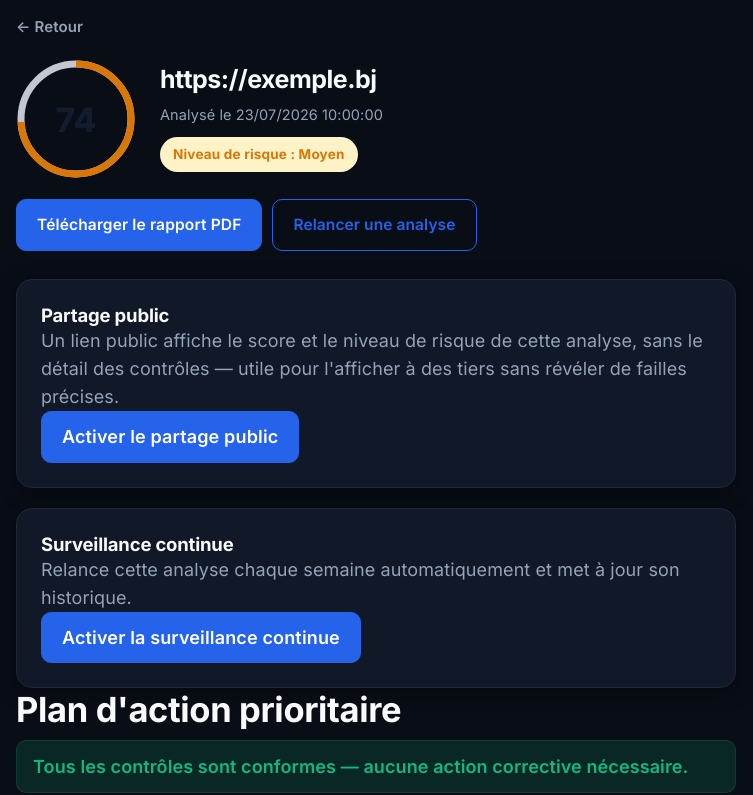
it: ResultatAnalyse — partage et surveillance › active le partage et affiche le lien copiable
Click the button "Activer le partage public". click: click(170, 437)
box: [41, 411, 299, 463]
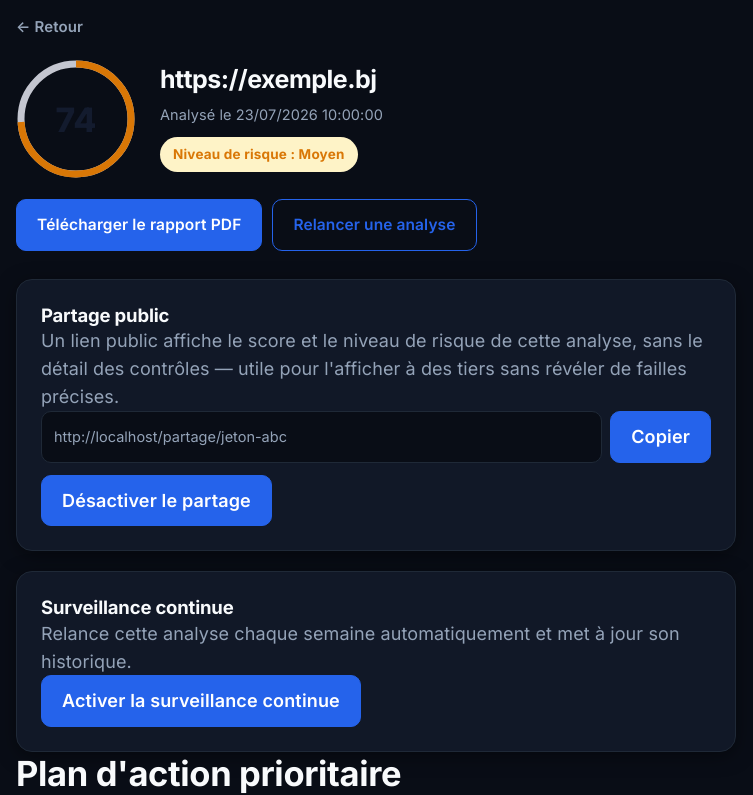
Now the button "Désactiver le partage" is shown, box [41, 475, 272, 526]
Now the field showing "/partage/jeton-abc" is shown, box [41, 411, 602, 463]
